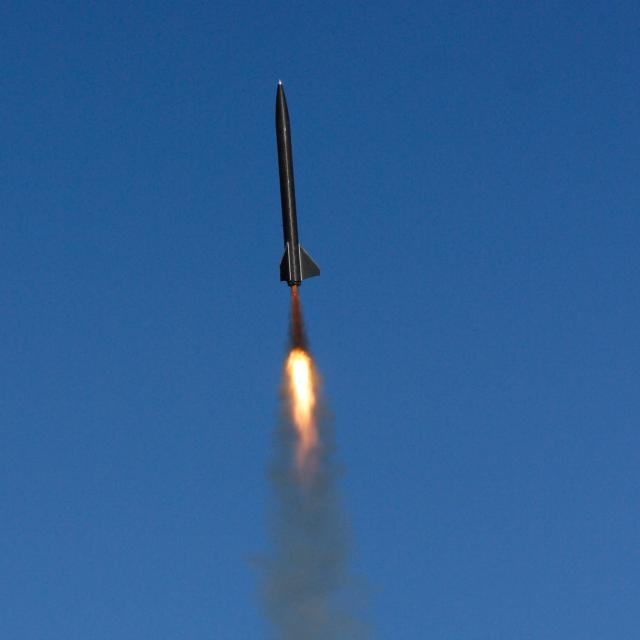Rocket: (272, 78, 322, 287)
